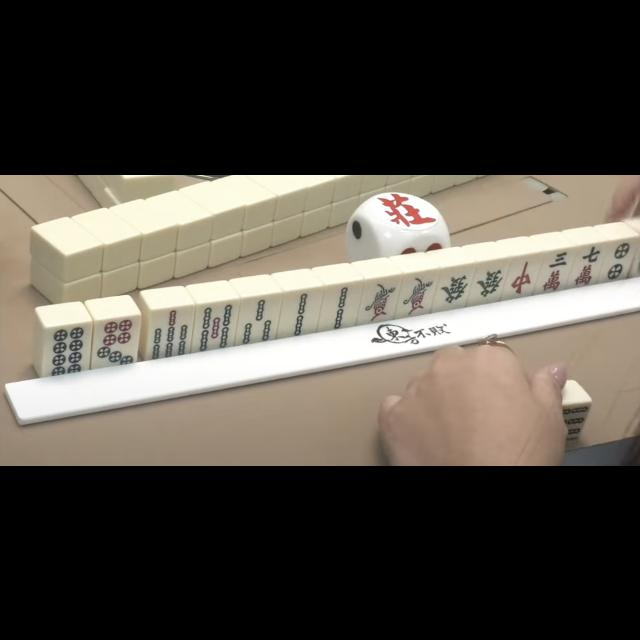b1: (399, 270, 437, 316), (360, 278, 398, 322)
b2: (280, 289, 322, 335), (320, 284, 360, 328)
b3: (238, 295, 280, 343)
b5: (196, 300, 237, 348)
b7: (146, 306, 194, 356)
c3: (539, 249, 571, 291)
c7: (570, 244, 604, 286)
d2: (603, 238, 635, 280)
d7: (92, 316, 138, 366)
d8: (43, 323, 91, 375)
dg: (438, 266, 472, 308), (472, 260, 506, 302)
dr: (506, 254, 540, 296)
